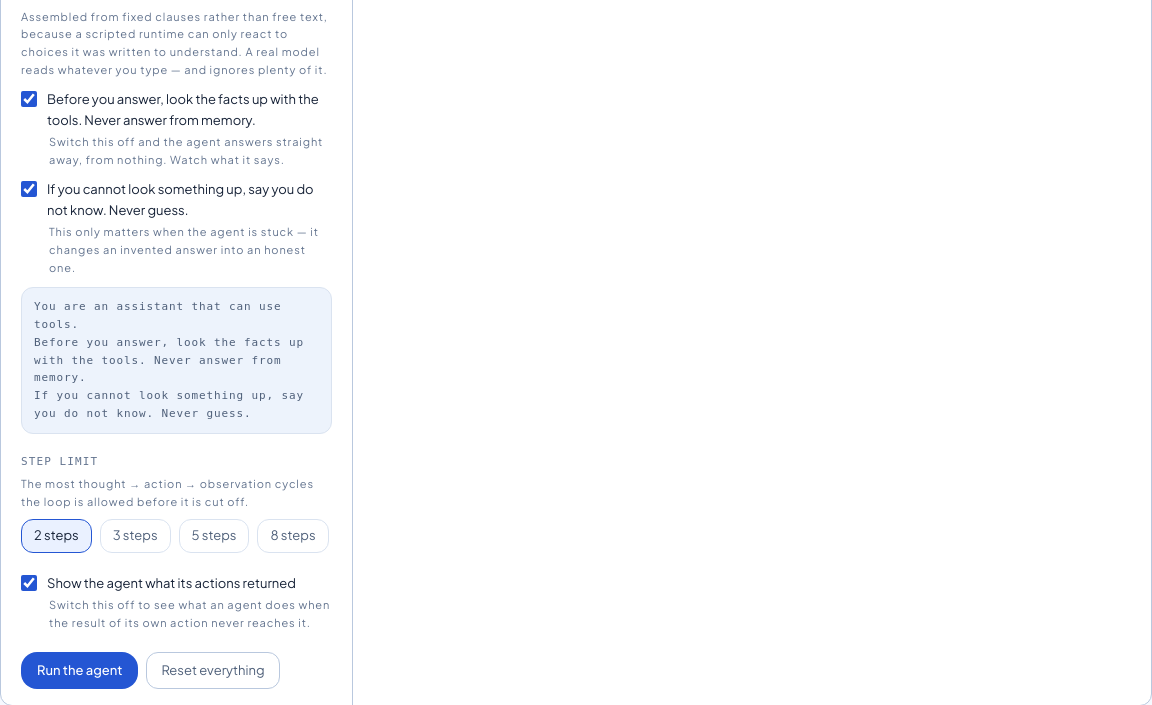
Test: AgentLab — stepping through a trace › shows the takeaway lessons only once the whole trace has been revealed
The image size is (1152, 705).
(page scrolled)
Step 1. Click the button "Run the agent" → {"x": 80, "y": 670}, box [21,652,138,689]
(page scrolled)
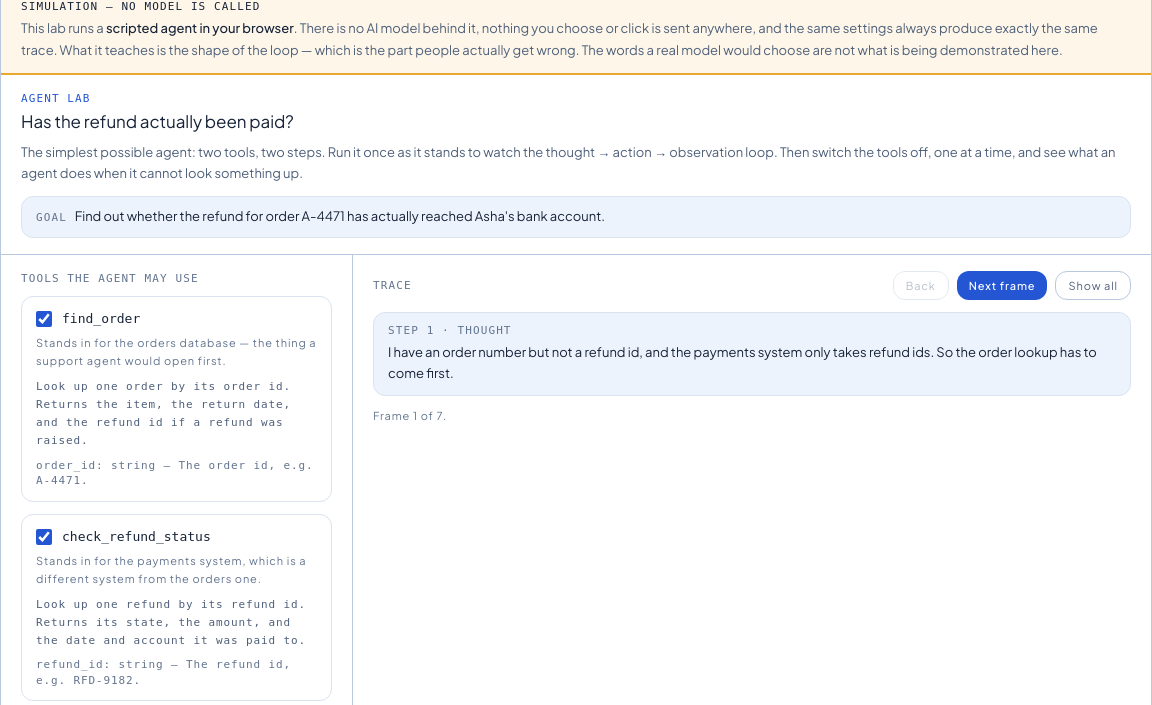
Step 2. Click the button "Show all" → {"x": 1093, "y": 285}, box [1056,271,1131,300]
(page scrolled)
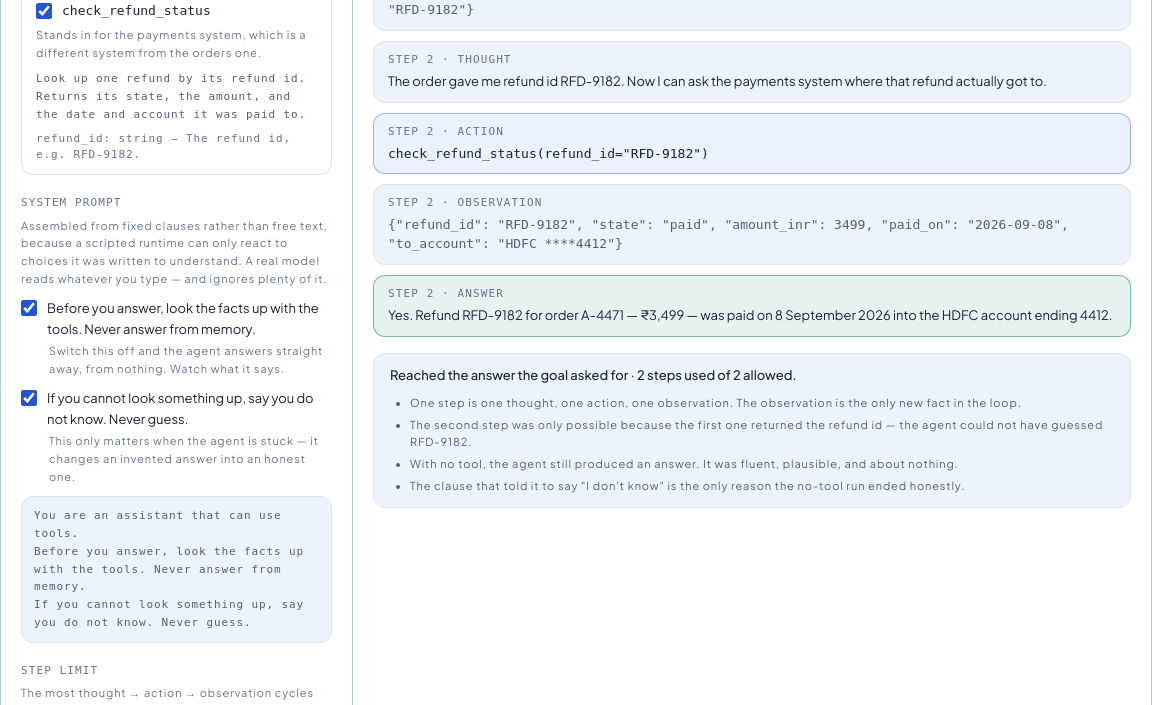
Check: the list item "One step is one thought, one action, one observation. The observation is the only new fact in the loop." is shown, box [410,396,1022,409]
